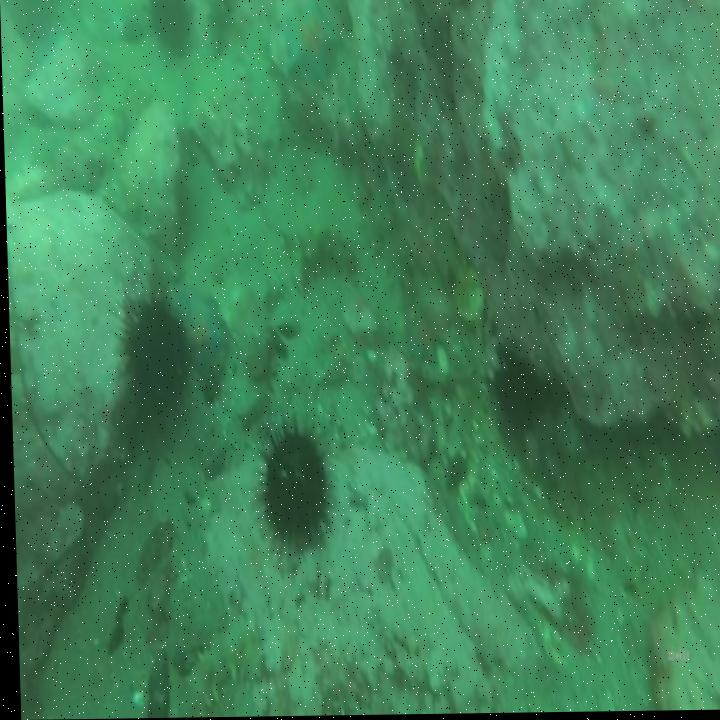echinus: (248, 416, 332, 559), (115, 284, 195, 427), (485, 337, 547, 442), (144, 0, 192, 58)
holothurian: (162, 617, 263, 718), (286, 221, 361, 295)
starfish: (279, 0, 345, 91), (165, 293, 225, 386)
